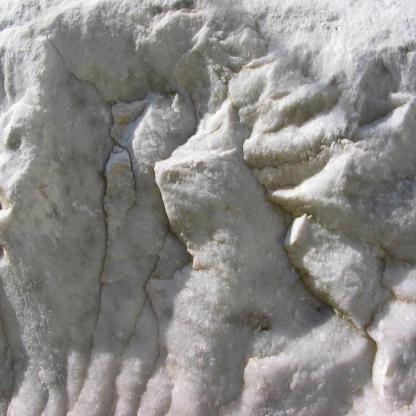Metamorphic_Marble: (1, 28, 113, 411), (241, 105, 415, 258), (156, 70, 254, 340), (99, 82, 190, 204)
